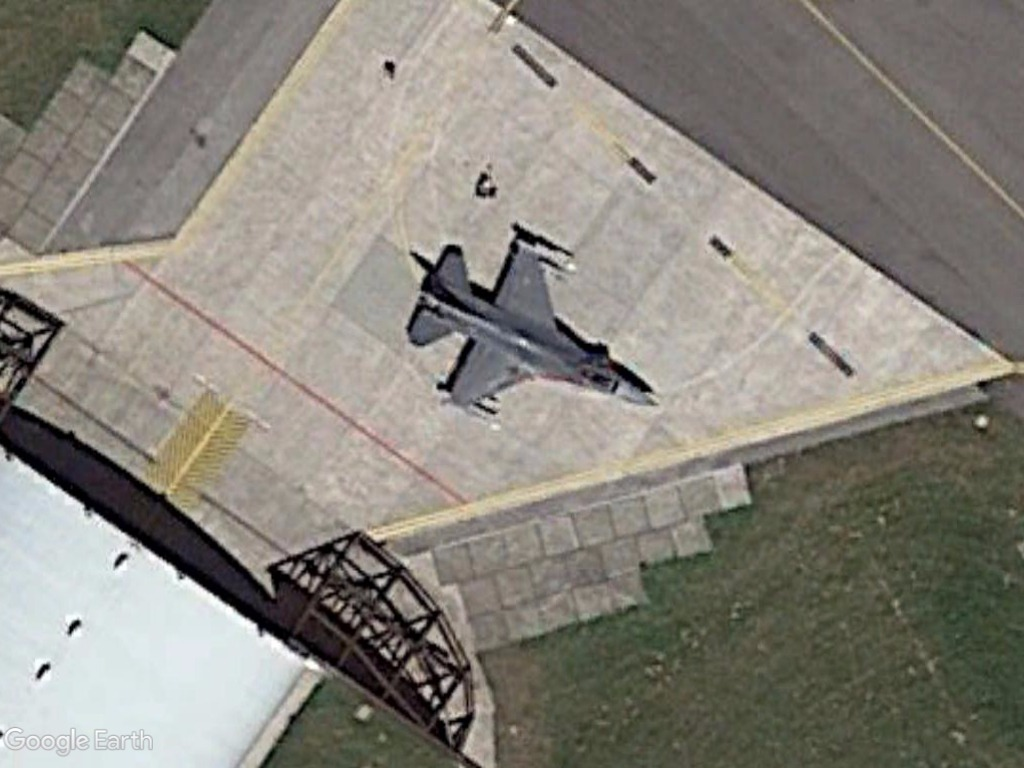fighter: (401, 223, 675, 446)
